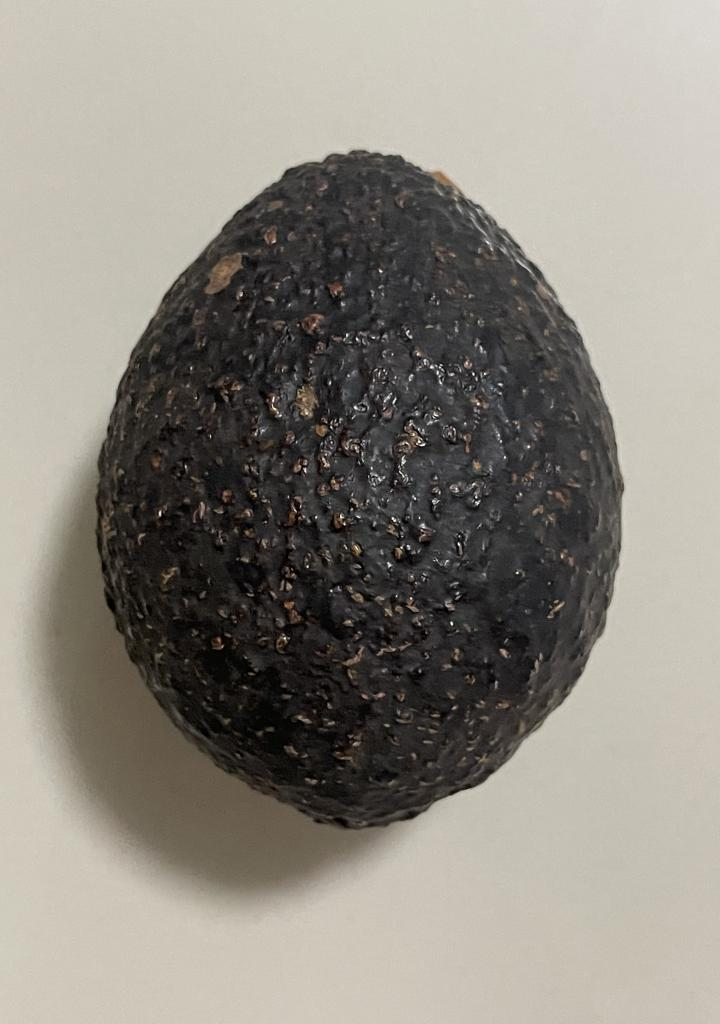Level3: (81, 132, 638, 845)
